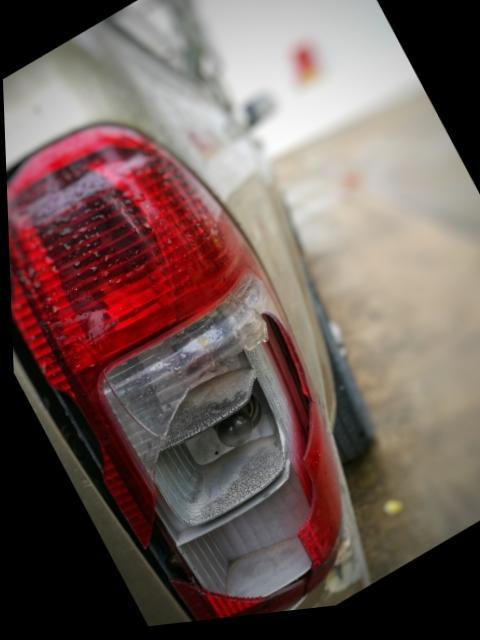lamp broken: (5, 123, 338, 625)
